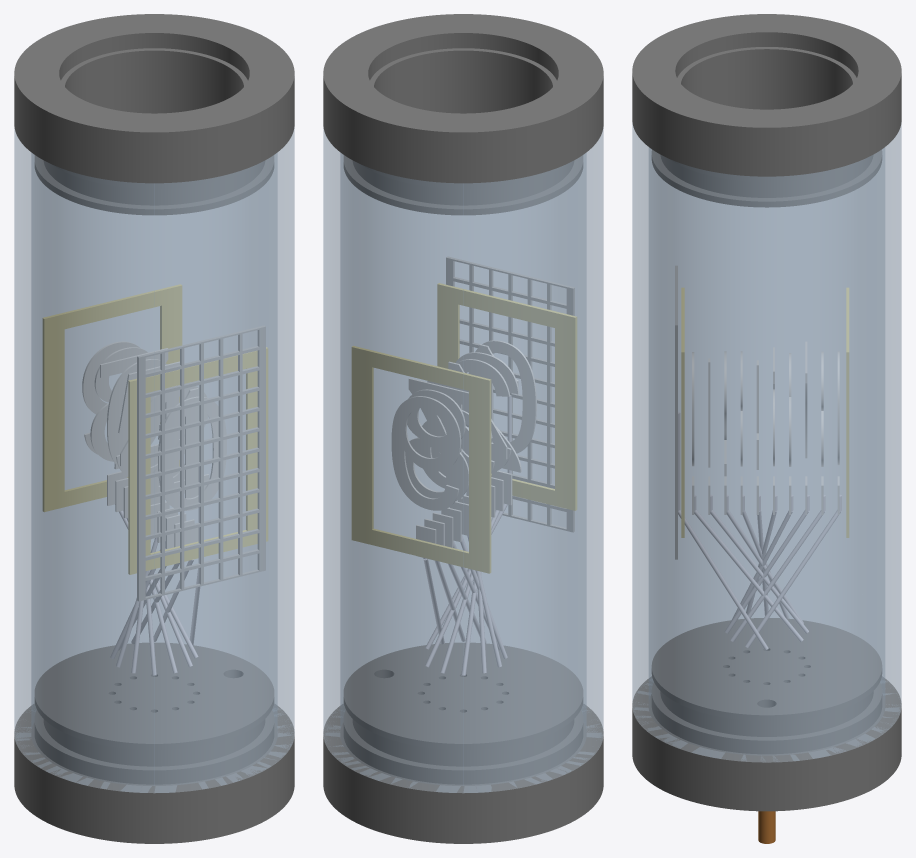
Rendered from assembly.glb.
The picture shows the model from 3 angles, left to right: view 1: azimuth 30°, elevation 25°; view 2: azimuth 150°, elevation 25°; view 3: azimuth 270°, elevation 25°; orthographic projection. The views are drawn at different scales.
Visible parts, largest first — view 1: envelope, top_cap, bottom_cap, anode, mica_back, mica_front, lead_harness, cathode_0, cathode_8, cathode_9, cathode_6, cathode_1 (+4 smaller); view 2: envelope, top_cap, bottom_cap, mica_back, mica_front, anode, cathode_9, lead_harness, cathode_8, cathode_0, cathode_7, cathode_2 (+6 smaller); view 3: envelope, top_cap, bottom_cap, lead_harness, anode_lead, mica_front, mica_back, anode, fill_stem.
Part boxes in pixels (<box>): envelope: <box>14,127,294,792</box>; top_cap: <box>14,14,294,215</box>; bottom_cap: <box>14,642,294,843</box>; anode: <box>137,325,265,601</box>; mica_back: <box>42,284,182,511</box>; mica_front: <box>128,347,268,574</box>; lead_harness: <box>110,511,198,675</box>; cathode_0: <box>158,396,226,544</box>; cathode_8: <box>90,347,160,511</box>; cathode_9: <box>82,341,139,505</box>; cathode_6: <box>107,359,166,466</box>; cathode_1: <box>159,388,198,546</box>; envelope: <box>323,127,603,792</box>; top_cap: <box>323,14,603,215</box>; bottom_cap: <box>323,642,603,843</box>; mica_back: <box>351,346,491,573</box>; mica_front: <box>437,283,577,510</box>; anode: <box>446,256,574,532</box>; cathode_9: <box>391,396,461,543</box>; lead_harness: <box>423,510,507,675</box>; cathode_8: <box>405,389,468,545</box>; cathode_0: <box>468,340,536,504</box>; cathode_7: <box>408,378,468,547</box>; cathode_2: <box>455,352,521,517</box>; envelope: <box>632,123,901,762</box>; top_cap: <box>632,14,901,207</box>; bottom_cap: <box>632,618,901,811</box>; lead_harness: <box>694,494,841,647</box>; anode_lead: <box>678,411,768,650</box>; mica_front: <box>681,287,684,537</box>; mica_back: <box>846,287,849,537</box>; anode: <box>675,265,677,559</box>; fill_stem: <box>758,811,775,843</box>.
Size of the model in its own units: 25 by 75 by 24.99.
